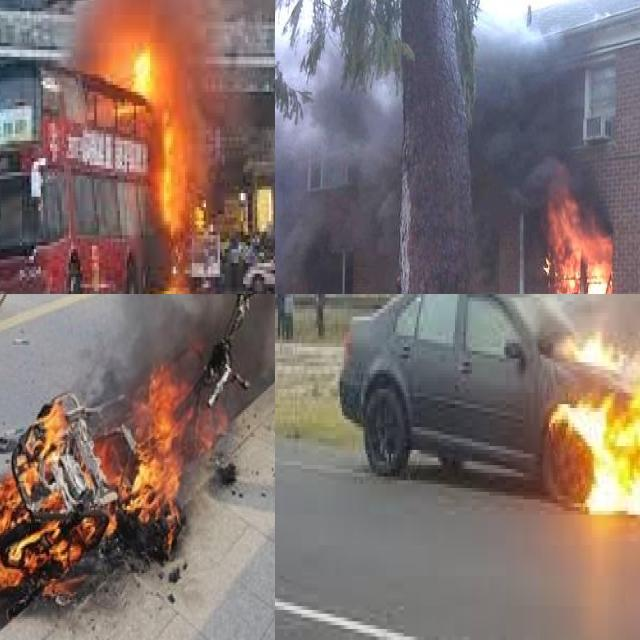fire: (0, 321, 237, 611), (542, 316, 640, 541), (110, 39, 202, 235), (542, 176, 614, 294), (68, 263, 115, 294), (131, 273, 187, 294)
smoke: (275, 28, 604, 274), (68, 0, 275, 71)
